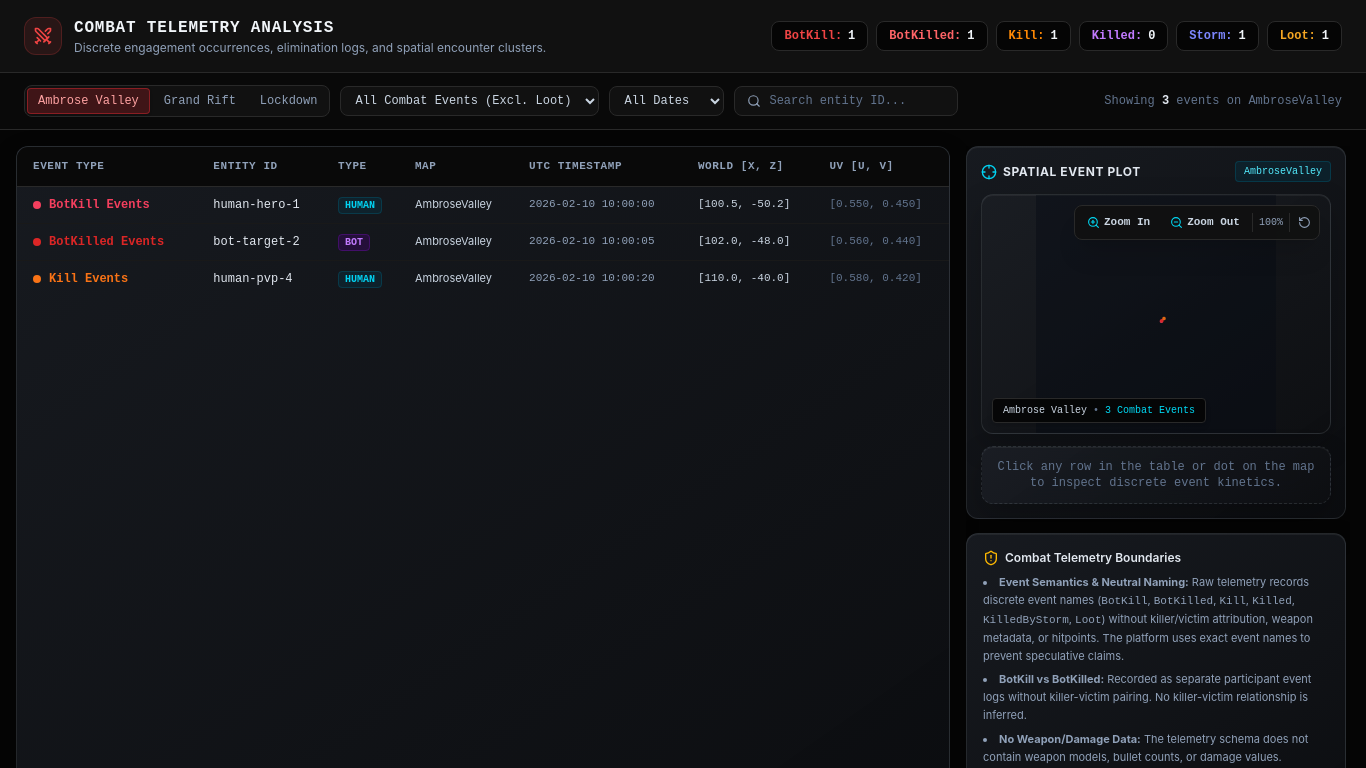
Scenario: CombatAnalysisPage › filters events by individual maps without All Maps option
Check: the text "human-hero-1" is shown, box [201,186,326,223]
Check: the text "human-straggler-3" is not shown
Note: Switch to Lockdown
What coordinates should you click on to do the following:
click the button "Lockdown"
I would click on:
 (289, 101)
Its box is [250,89,327,113].
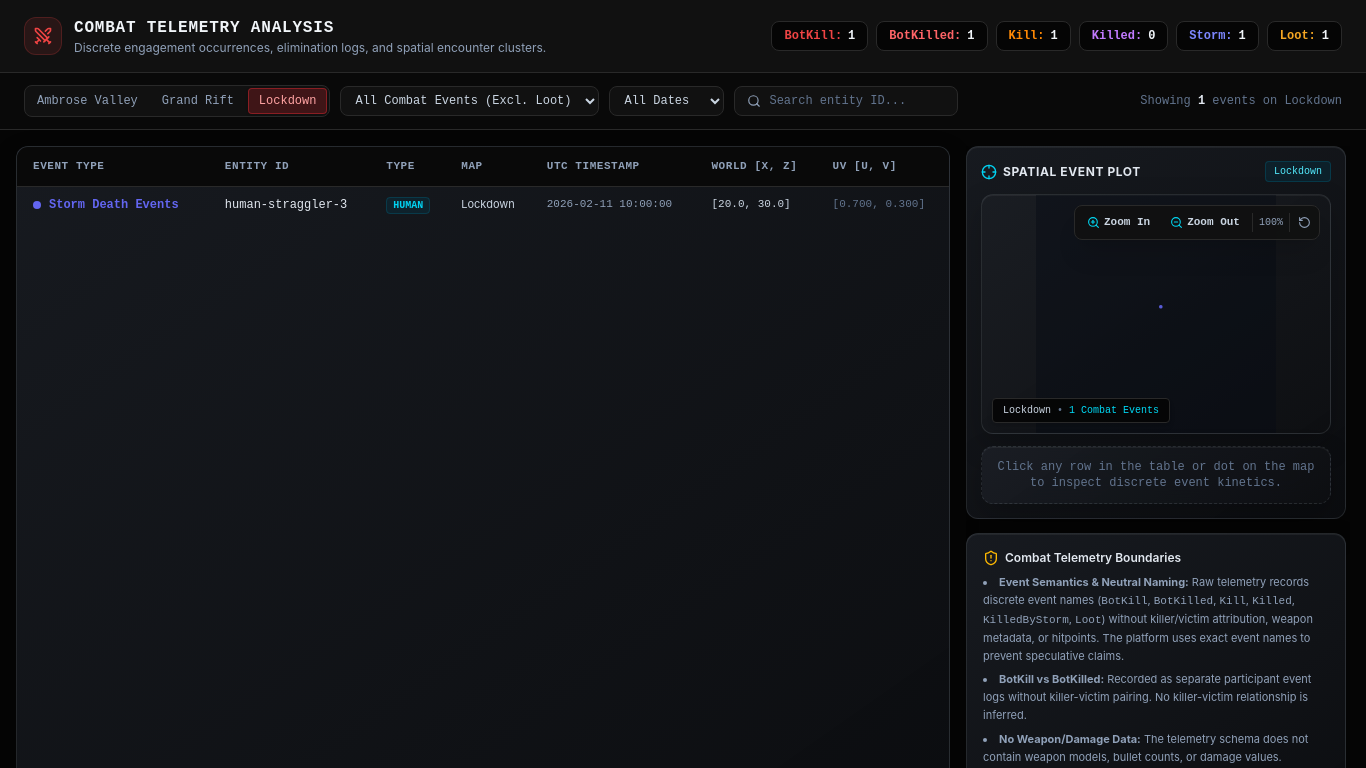
Check: the text "human-straggler-3" is shown, box [213,186,374,223]
Check: the text "human-hero-1" is gone
